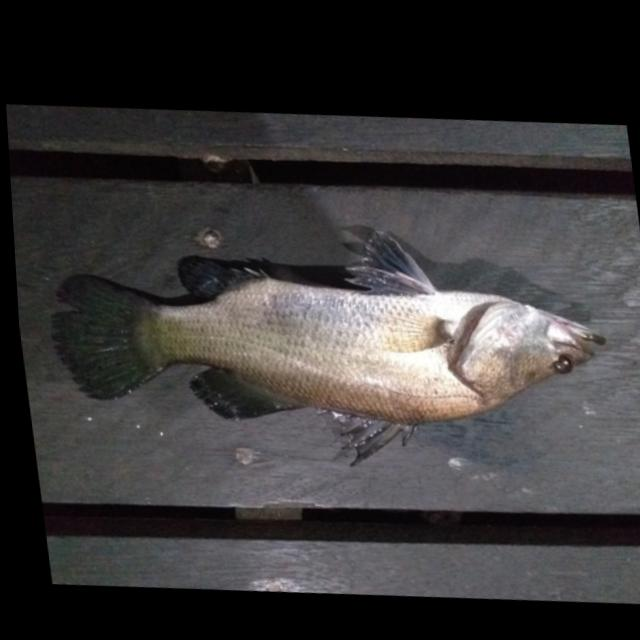Seabass: (33, 175, 623, 516)
